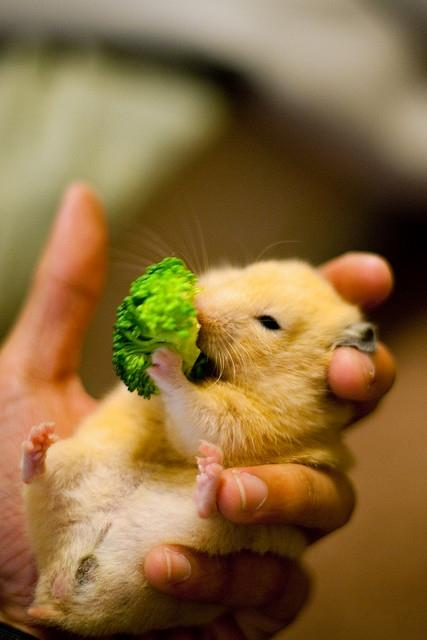broccoli: (110, 256, 204, 401)
